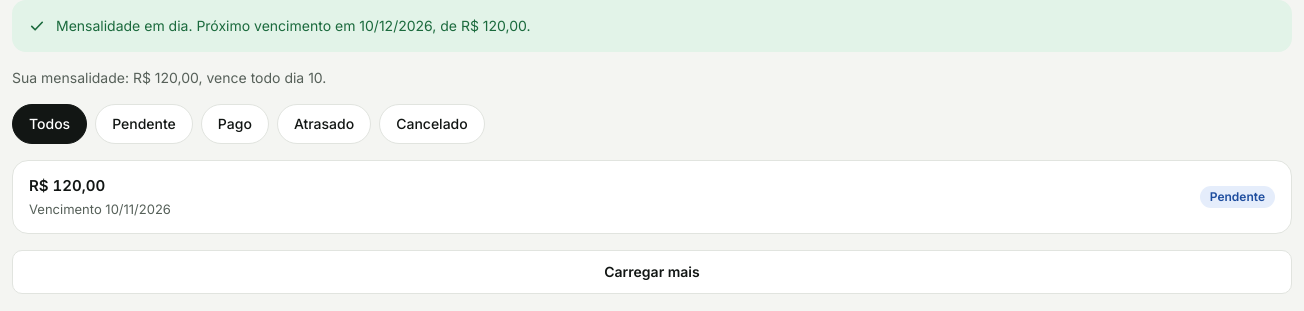
Test case: MeusPagamentos › descarta o Carregar mais que chega depois de trocar o filtro
What coordinates should you click on to do the following:
click the button "Carregar mais"
I would click on:
 (652, 272)
Its box is [12,250,1292,294].
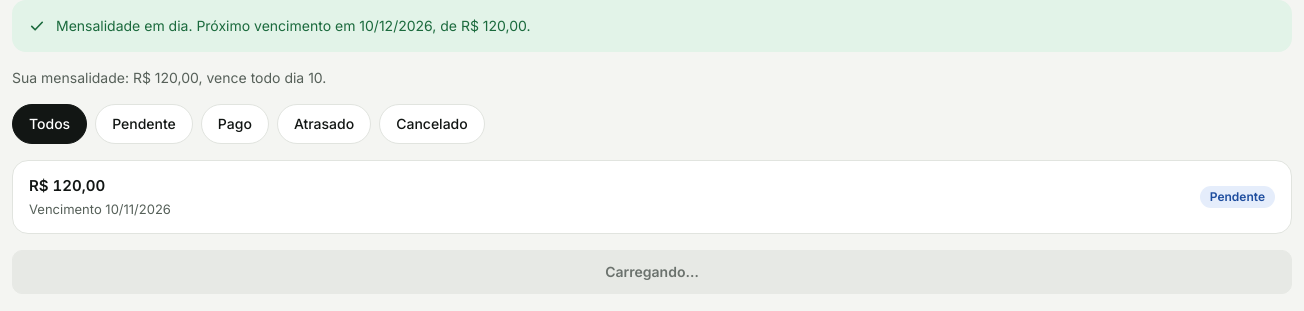
What coordinates should you click on to do the following:
click the button "Pago"
I would click on:
 (235, 124)
Its box is [201,104,269,144].
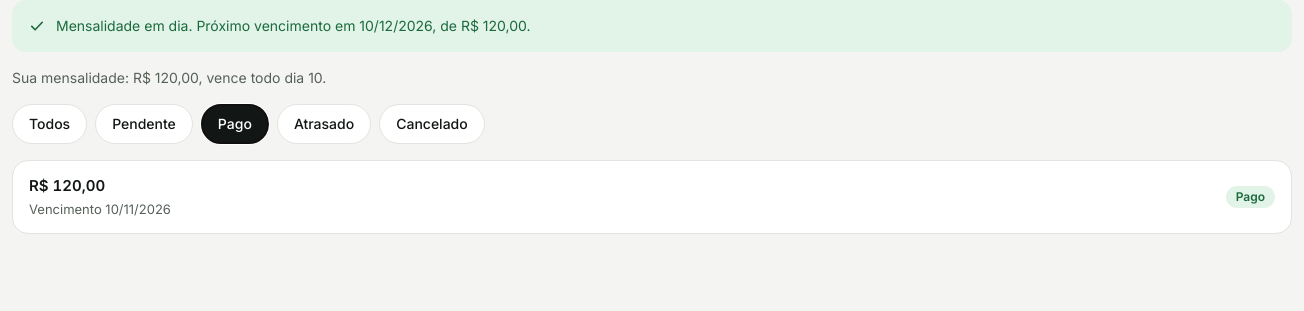
Now the text "Pago" is shown, box [1226,186,1275,208]
